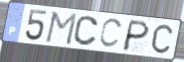5: (25, 8, 49, 42)
C: (72, 15, 100, 48), (98, 18, 125, 50), (150, 23, 174, 55)
M: (43, 11, 79, 47)
P: (120, 18, 152, 53)
